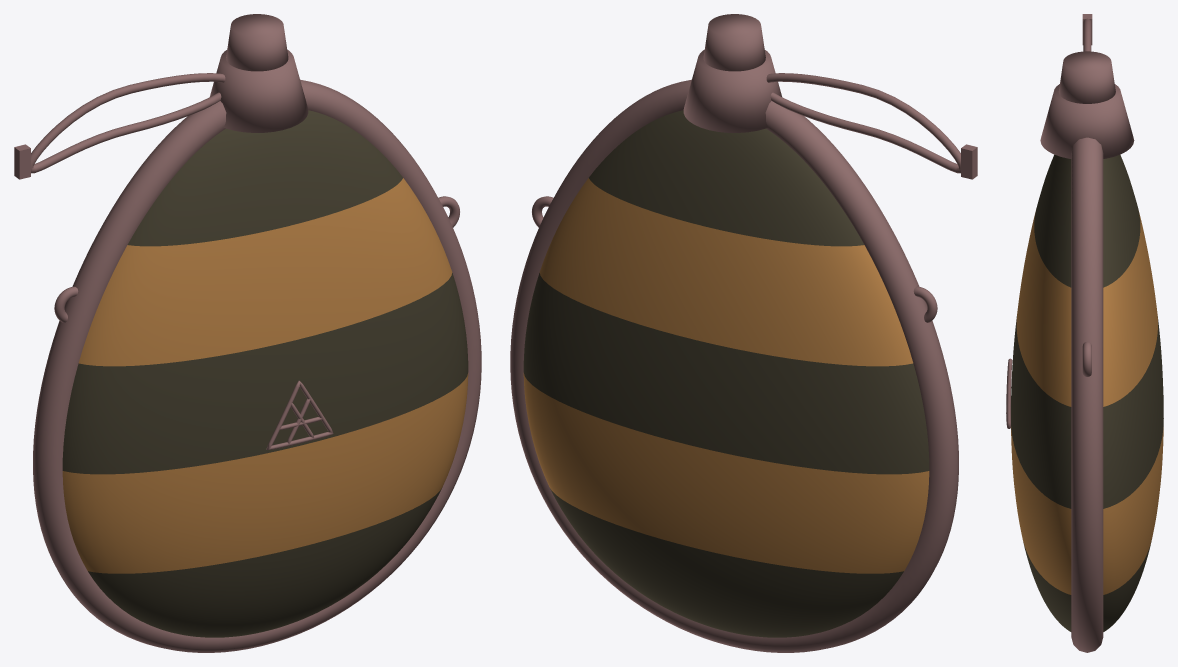
File: waterbottle.glb
3 renders of one model, left to right at view 1: azimuth 30°, elevation 25°; view 2: azimuth 150°, elevation 25°; view 3: azimuth 270°, elevation 25°, orthographic. The views are drawn at different scales.
Visible parts, largest first — view 1: FlaskBody; view 2: FlaskBody; view 3: FlaskBody.
Part boxes in pixels (x1=…): FlaskBody: x1=14, y1=14, x2=481, y2=652; FlaskBody: x1=510, y1=14, x2=977, y2=652; FlaskBody: x1=1006, y1=14, x2=1163, y2=652.
Bounding box in the file's own units: 3.65 × 4.67 × 1.18.
Materials: 1 (1 with a texture image).
